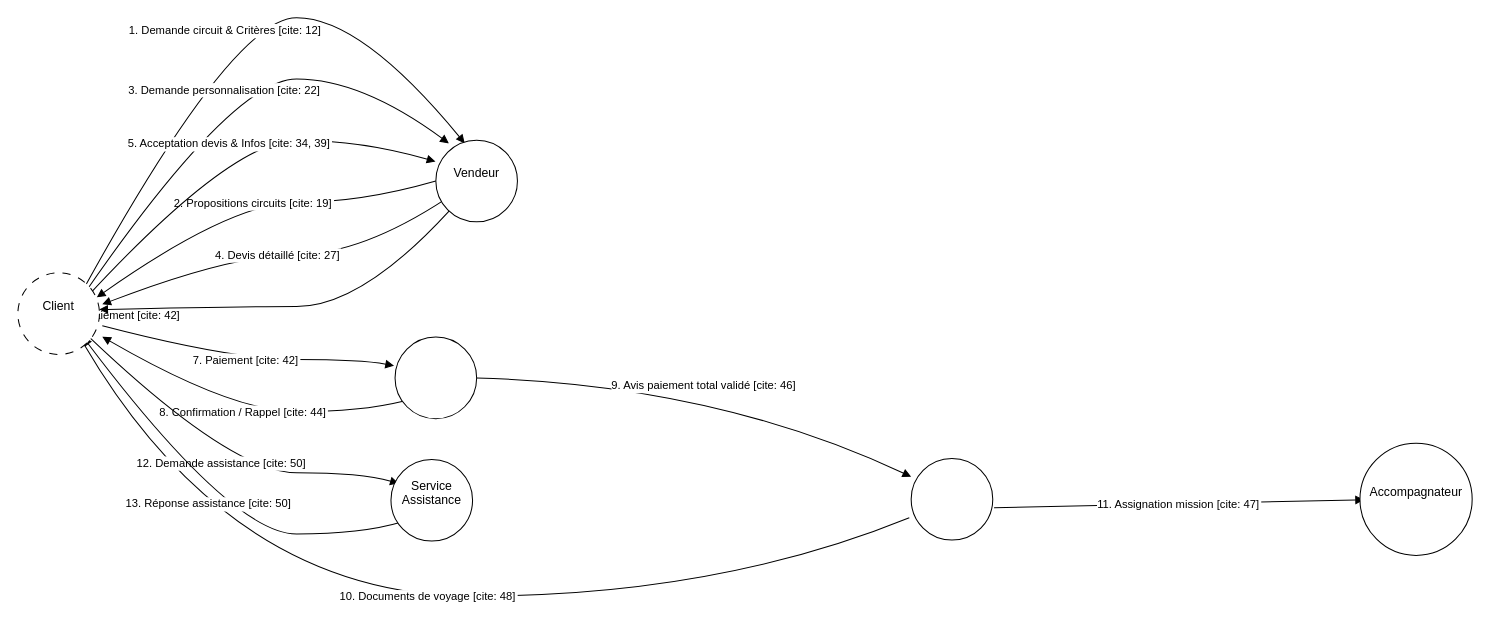
Image size: 1490x620. Some labels were removed from this diagram. The centre of each missing label's shape, as x and y in pixels:
"Service Financier" belongs at (x=435, y=377).
"Service Réservation/Logistique" belongs at (x=951, y=498).
